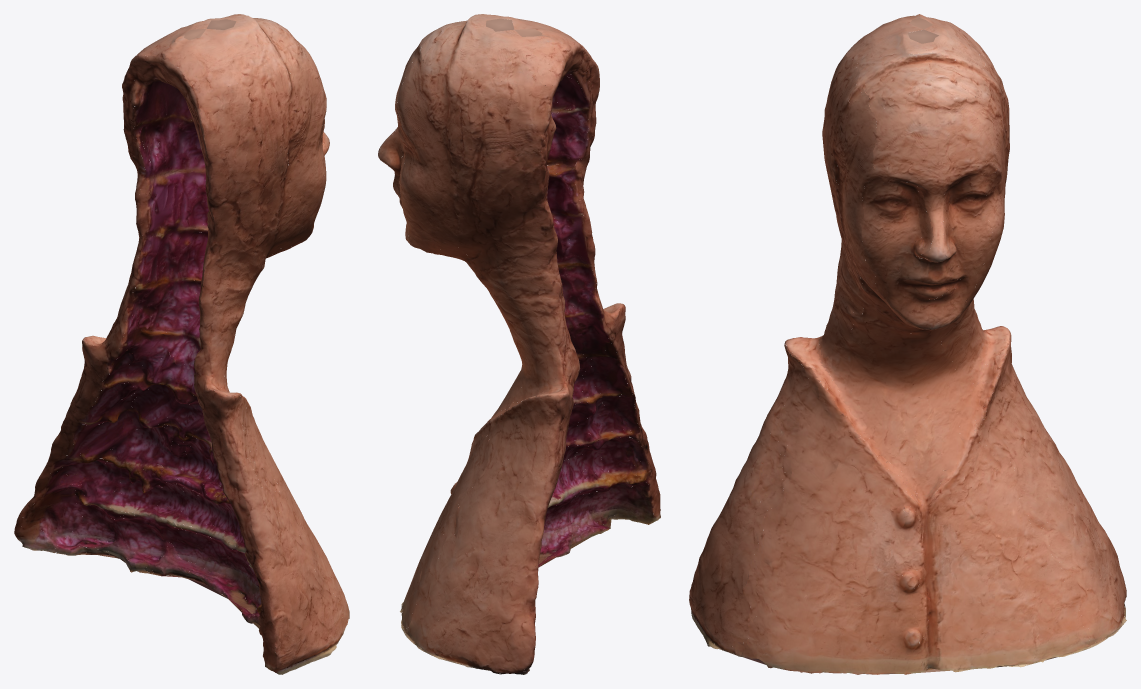
The model's file is jiwon2.glb.
The picture shows the model from 3 angles, left to right: view 1: azimuth 30°, elevation 25°; view 2: azimuth 150°, elevation 25°; view 3: azimuth 270°, elevation 25°; orthographic projection. The views are drawn at different scales.
Visible parts, largest first — view 1: Mesh_0_Part_0; view 2: Mesh_0_Part_0; view 3: Mesh_0_Part_0.
Part boxes in pixels (<box>): Mesh_0_Part_0: <box>14,14,349,674</box>; Mesh_0_Part_0: <box>378,14,660,674</box>; Mesh_0_Part_0: <box>689,14,1126,674</box>.
Size of the model in its own units: 2.31 by 5.3 by 3.46.
1 material, 1 textured.
